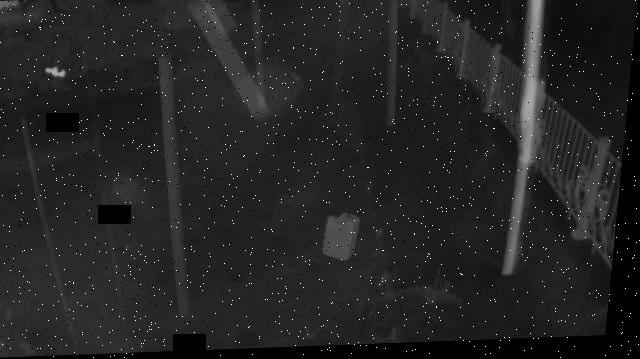bag: (325, 213, 366, 262)
